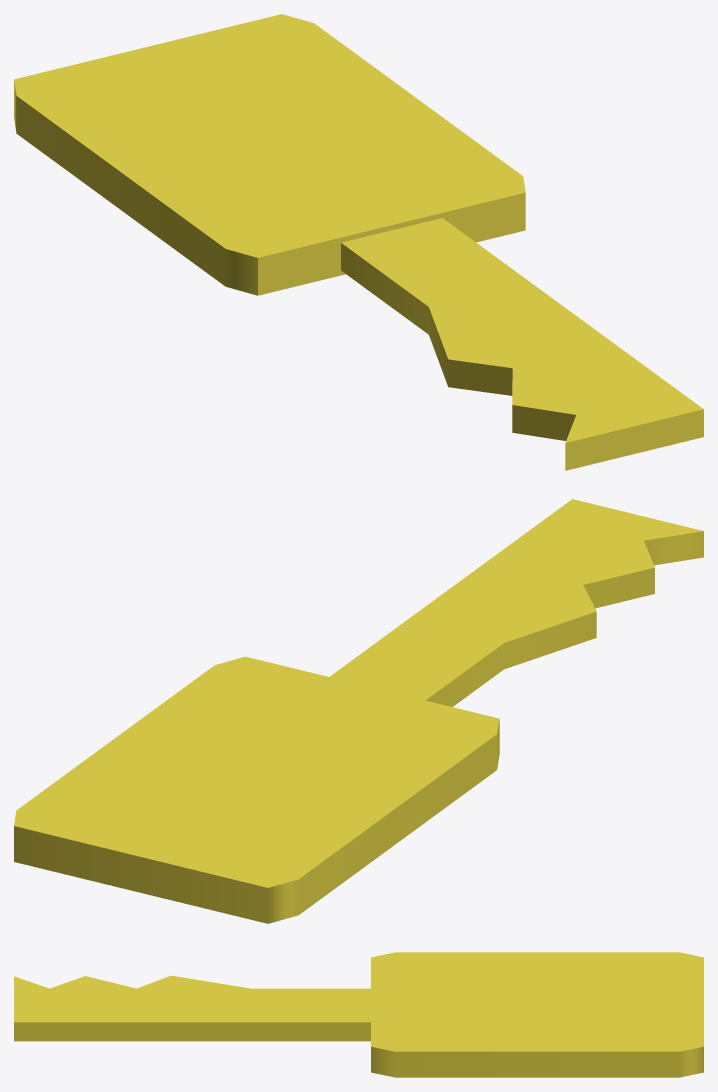
File: Asset_Key.fbx
3 renders of one model, top to bottom at view 1: azimuth 30°, elevation 25°; view 2: azimuth 150°, elevation 25°; view 3: azimuth 270°, elevation 25°, orthographic. The views are drawn at different scales.
Parts seen in each view (by area): view 1: Asset_Key; view 2: Asset_Key; view 3: Asset_Key.
Part boxes in pixels (left/top/right/bottom): Asset_Key: left=14, top=14, right=703, bottom=470; Asset_Key: left=14, top=499, right=703, bottom=923; Asset_Key: left=14, top=952, right=703, bottom=1077.
Bounding box in the file's own units: 6.4 × 0.7783 × 18.82.
